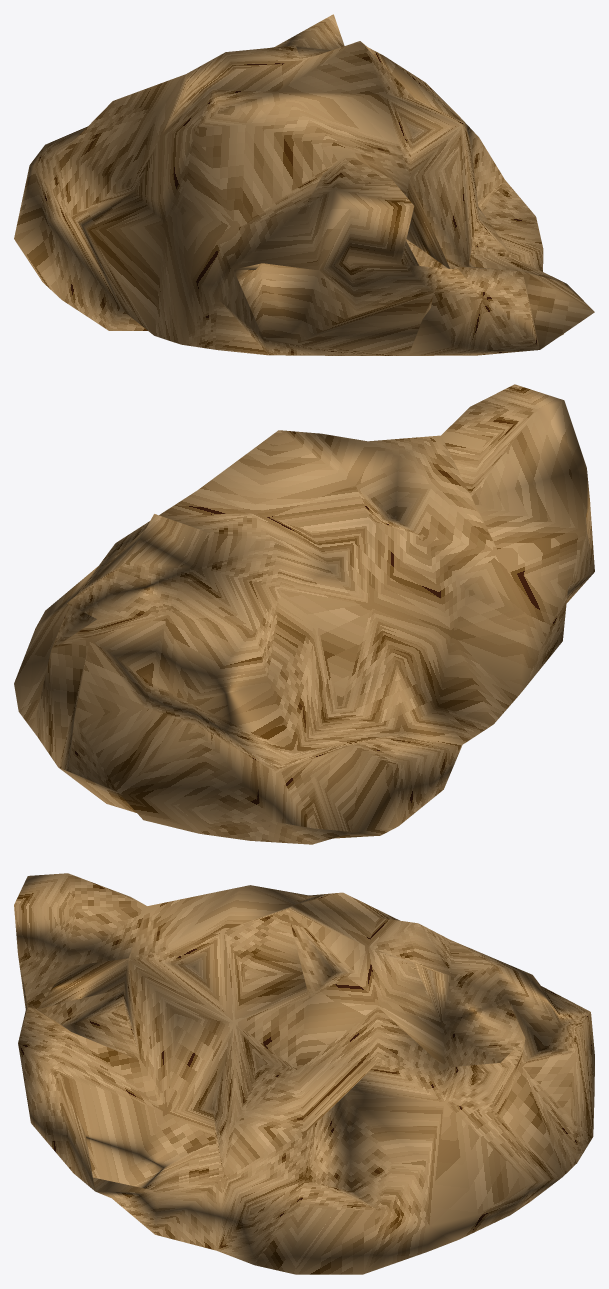
The model's file is tete_lod.glb.
The picture shows the model from 3 angles, top to bottom: view 1: azimuth 30°, elevation 25°; view 2: azimuth 150°, elevation 25°; view 3: azimuth 270°, elevation 25°; orthographic projection. The views are drawn at different scales.
Size of the model in its own units: 1.42 by 1 by 1.83.
1 material, 1 textured.
